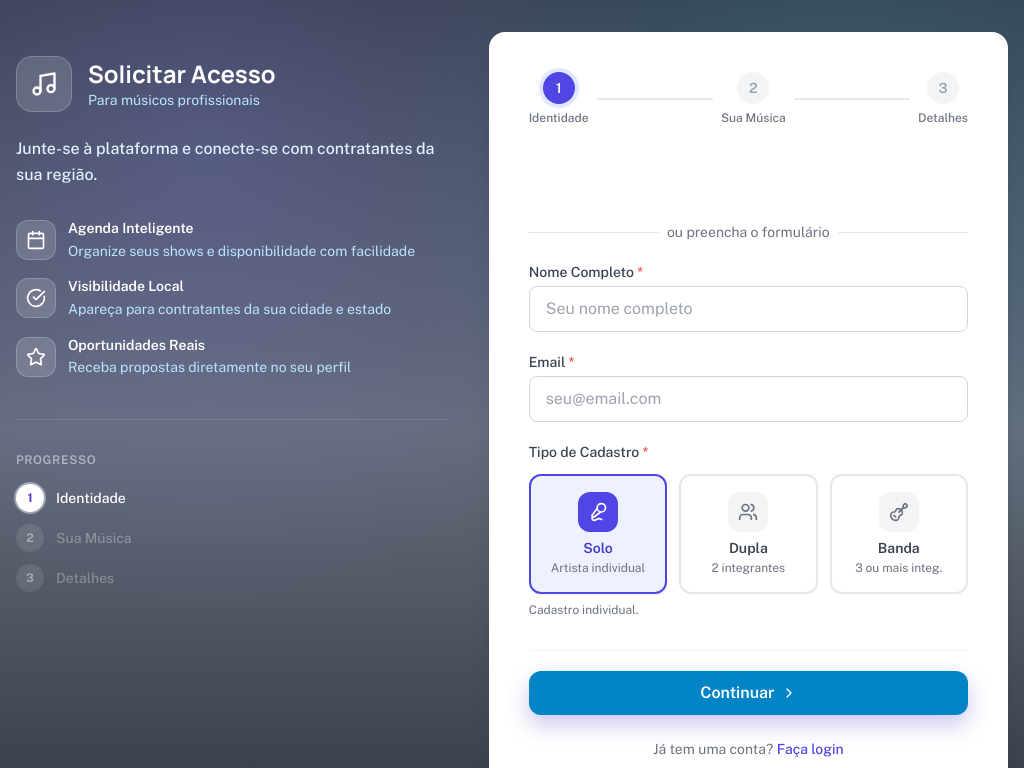
MusicianRequest Page — Wizard › step 3 (dupla) shows stage name field
Click the button "Dupla 2 integrantes" at [748, 534], box [679,474,818,594]
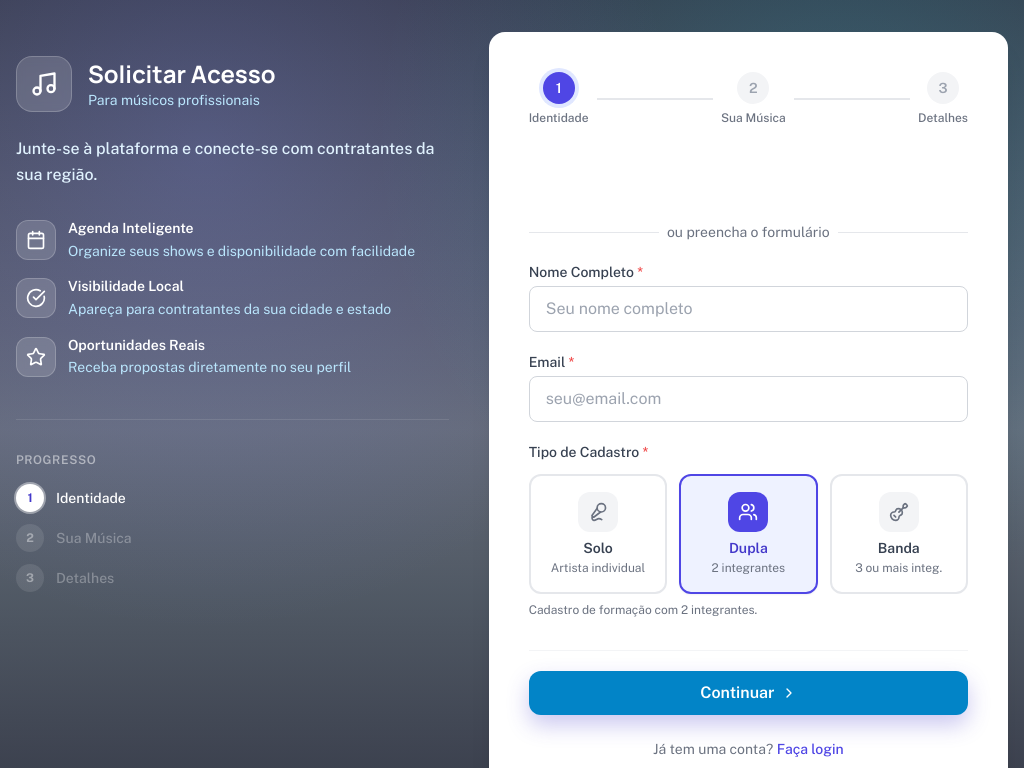
Type "João Silva" into the field with placeholder "Seu nome completo" at [748, 309], box [529,286,968,332]
Type "joao@teste.com" into the field with placeholder "seu@email.com" at [748, 399], box [529,376,968,422]
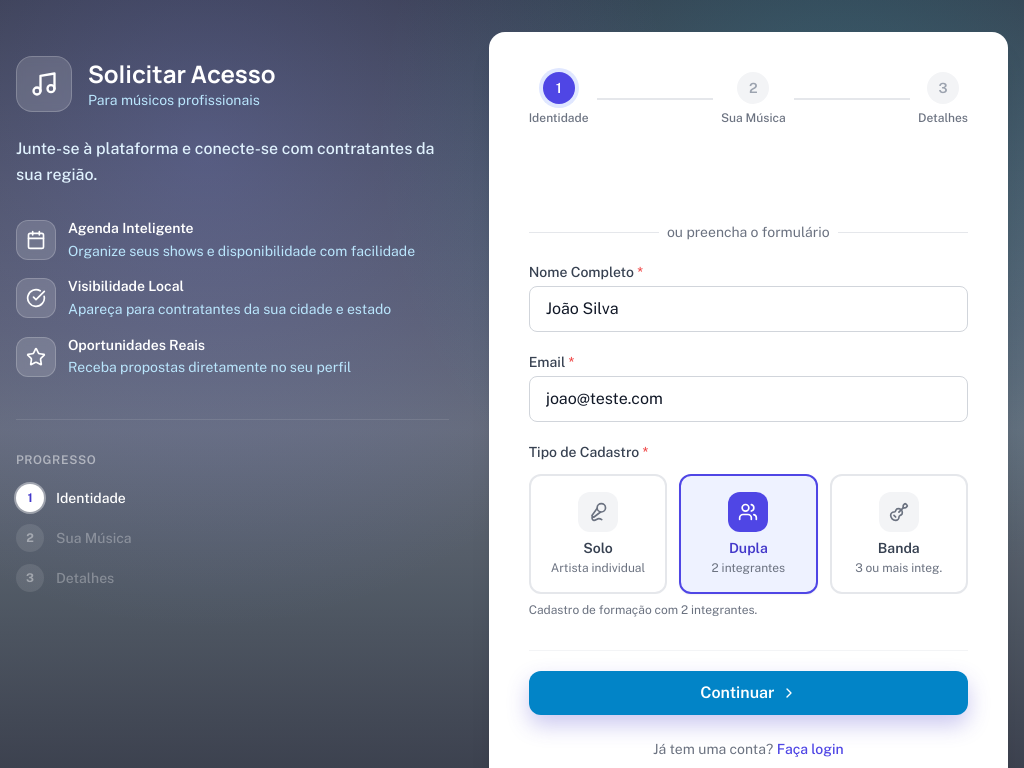
Click the button "Continuar" at [748, 692], box [529,670,968,714]
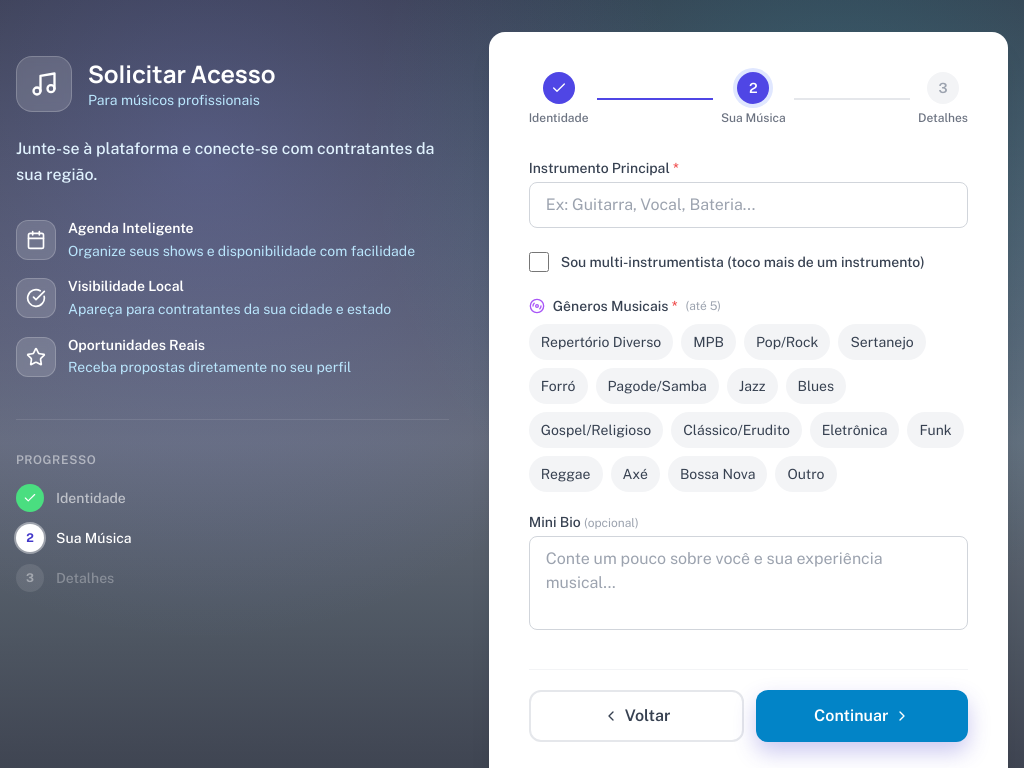
Check: the field with placeholder "Ex: Guitarra, Vocal, Bateria..." is shown
Type "Guitarra" into the field with placeholder "Ex: Guitarra, Vocal, Bateria..." at [748, 205], box [529,182,968,228]
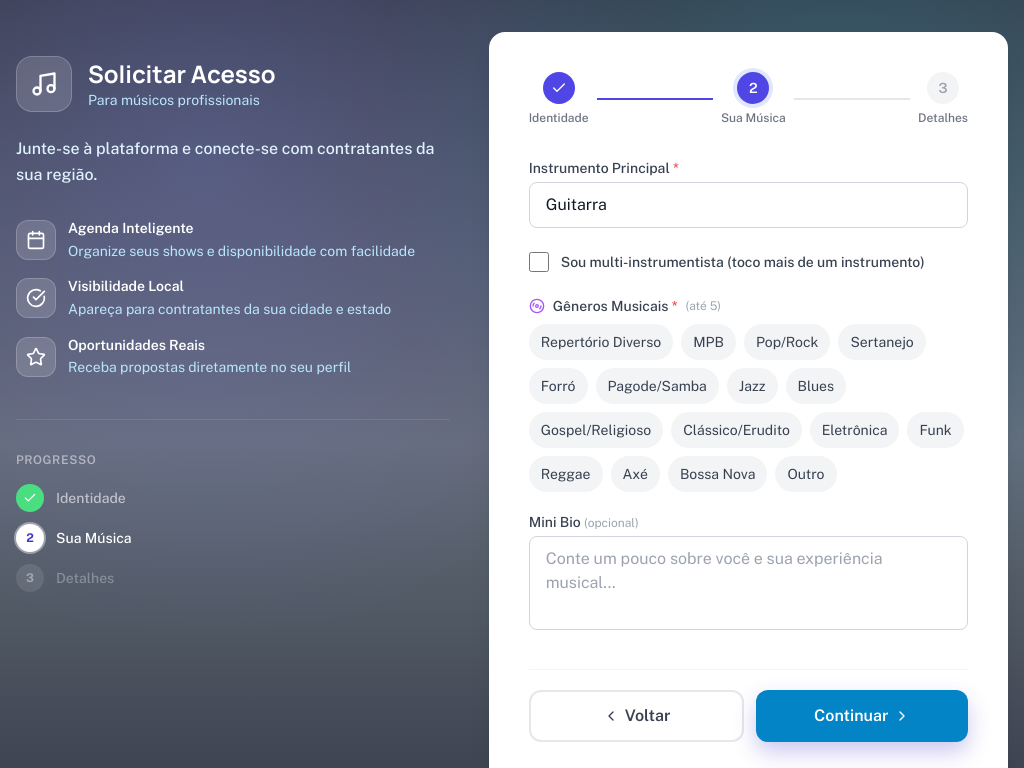
Click the button "Repertório Diverso" at [601, 342], box [529,324,673,360]
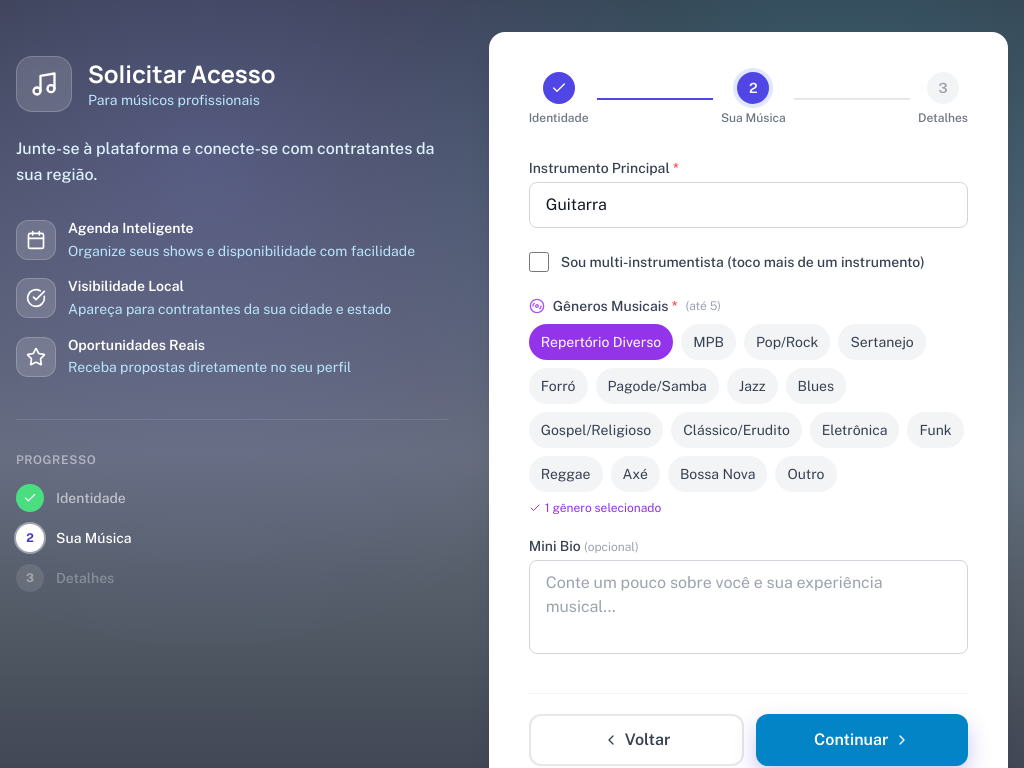
Click the button "Continuar" at [862, 740], box [756,714,968,766]
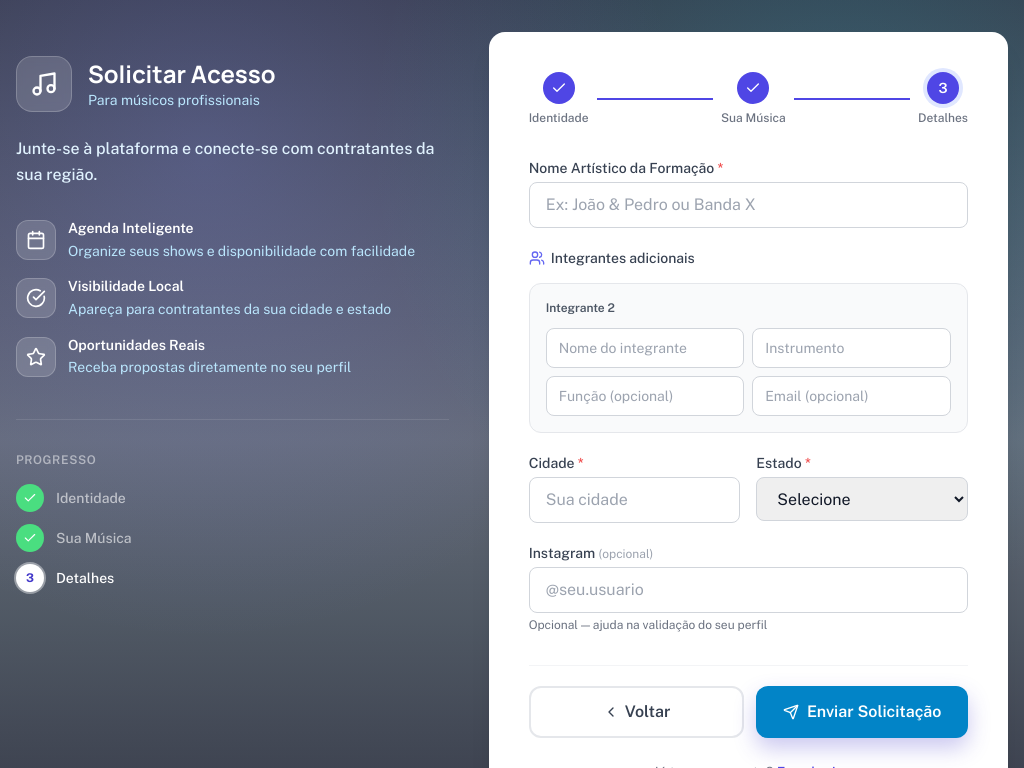
Check: the field with placeholder "Sua cidade" is shown, box [529,477,740,523]
Check: the text "Nome Artístico da Formação *" is shown, box [529,160,723,176]
